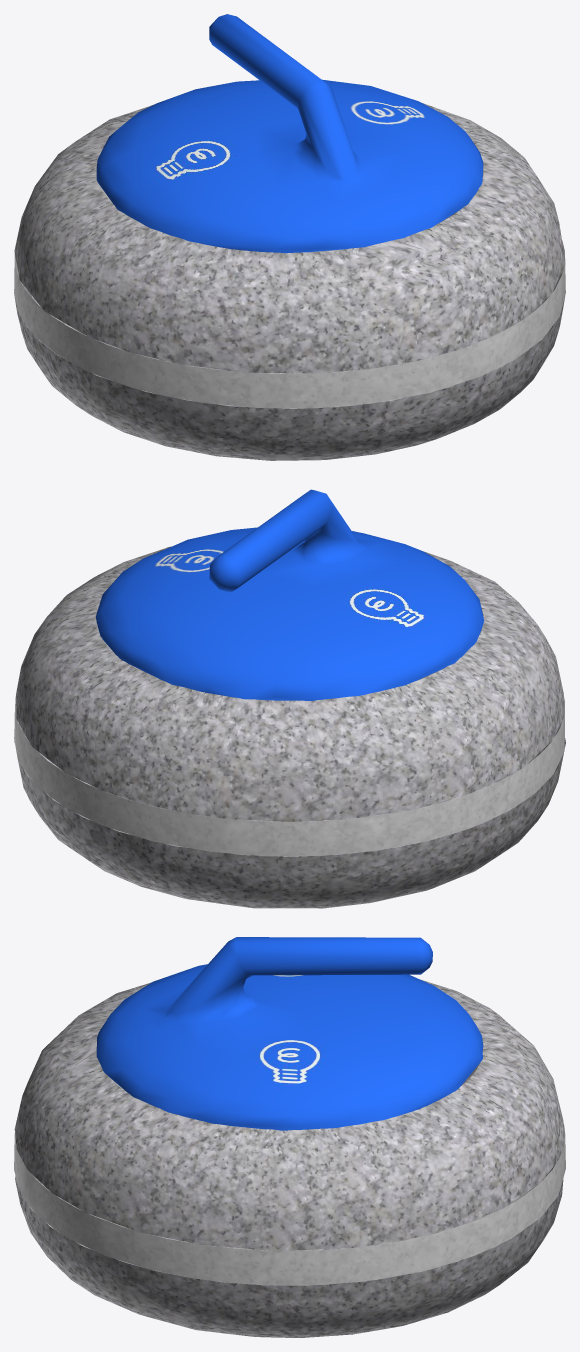
The model's file is stone-blue.glb.
3 renders of one model, top to bottom at view 1: azimuth 30°, elevation 25°; view 2: azimuth 150°, elevation 25°; view 3: azimuth 270°, elevation 25°, orthographic.
Visible parts, largest first — view 1: Body4, Body7, Body5, Body6; view 2: Body4, Body7, Body5, Body6; view 3: Body4, Body7, Body5, Body6.
Part boxes in pixels (left/top/right/bottom): Body4: left=14, top=103, right=565, bottom=373; Body7: left=96, top=14, right=483, bottom=253; Body5: left=14, top=210, right=565, bottom=460; Body6: left=14, top=175, right=565, bottom=408; Body4: left=16, top=546, right=563, bottom=821; Body7: left=95, top=489, right=483, bottom=700; Body5: left=14, top=652, right=565, bottom=908; Body6: left=14, top=624, right=564, bottom=856; Body4: left=14, top=979, right=565, bottom=1251; Body7: left=96, top=937, right=483, bottom=1130; Body5: left=15, top=1080, right=563, bottom=1337; Body6: left=14, top=1064, right=565, bottom=1285.
Bounding box in the file's own units: 40.44 × 25.65 × 40.48.
Materials: 3 (3 with a texture image).
